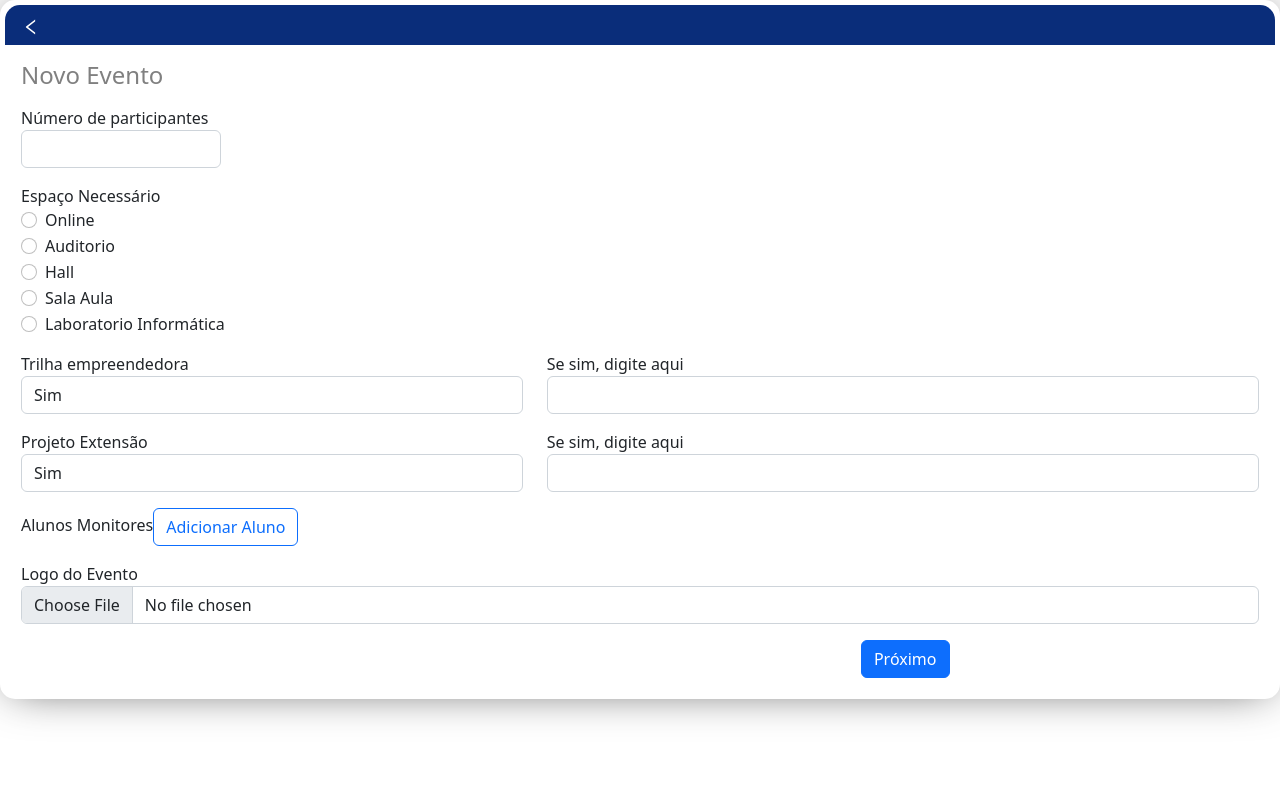
Test case: Sim sem descrição não avança (issue #35)
The width and height of the screenshot is (1280, 800).
Click the button "Próximo". click: (905, 659)
box: [861,640,950,678]
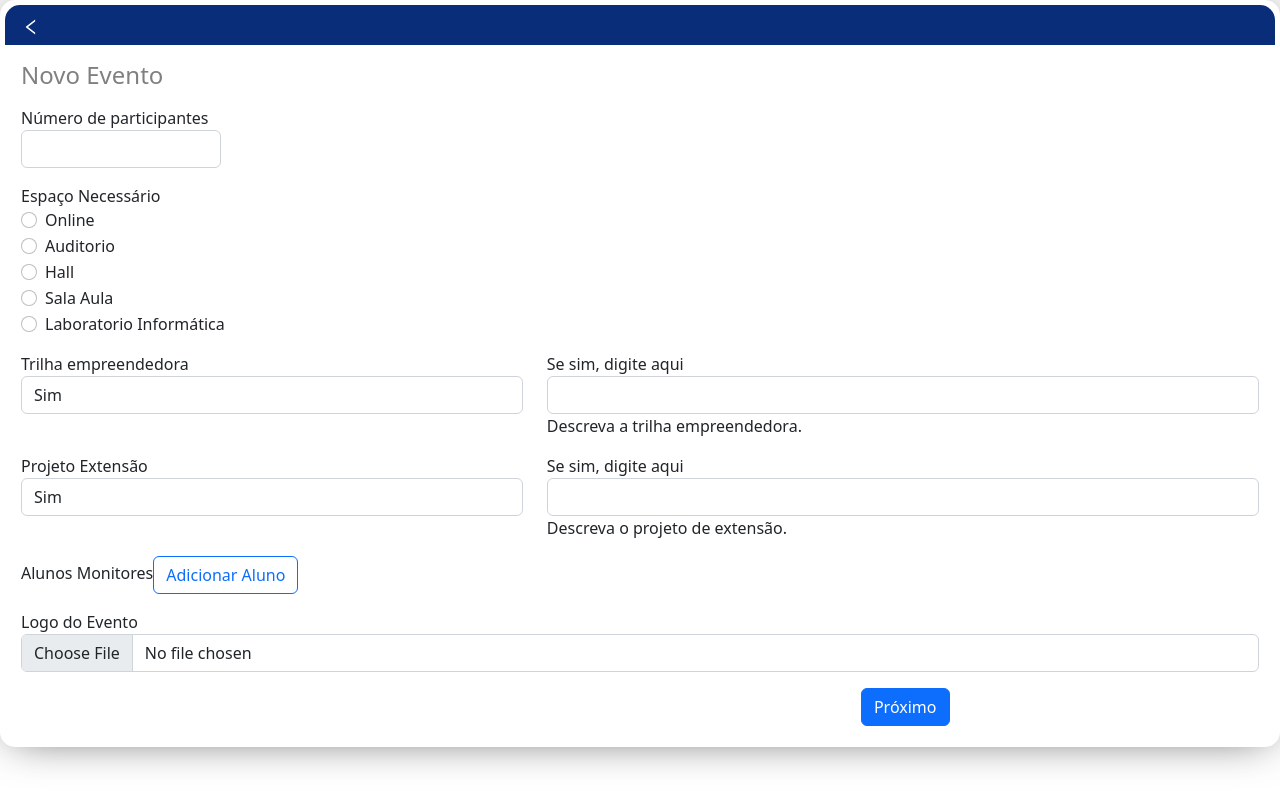
Check: the text "Descreva a trilha empreendedora." is shown, box [547,415,802,437]
Check: the text "Descreva o projeto de extensão." is shown, box [547,517,787,539]
